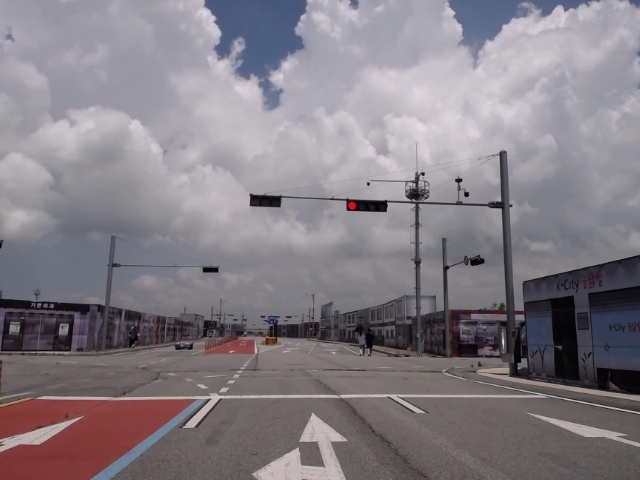red_4: (347, 200, 387, 212)
